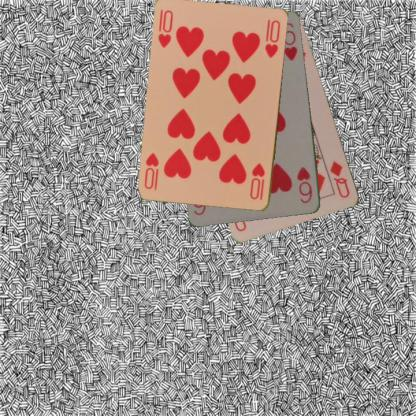10h: (248, 160, 266, 202), (156, 8, 174, 50)
6h: (294, 164, 314, 205)
Qd: (328, 158, 351, 200)
